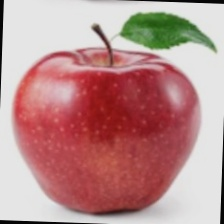apple: (28, 22, 202, 166)
